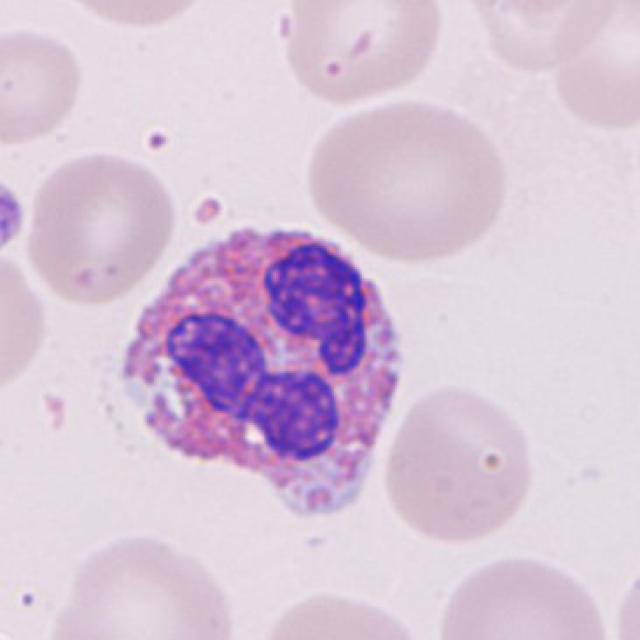Eosinophil: (100, 205, 423, 534)
Platelets: (0, 173, 30, 257)
RBC: (297, 92, 516, 267), (378, 380, 542, 550), (21, 146, 180, 308), (42, 525, 243, 640), (274, 0, 448, 111), (430, 548, 617, 640), (456, 0, 626, 75), (547, 2, 640, 137), (0, 21, 87, 151), (252, 583, 432, 640), (0, 242, 52, 402), (53, 0, 222, 33), (610, 548, 640, 640)
